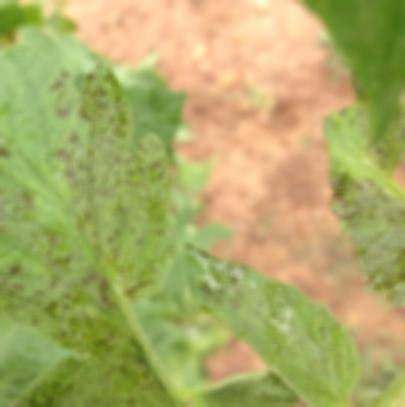Tomato Septoria leaf spot: (0, 57, 162, 336), (192, 237, 354, 407), (0, 354, 275, 407)
